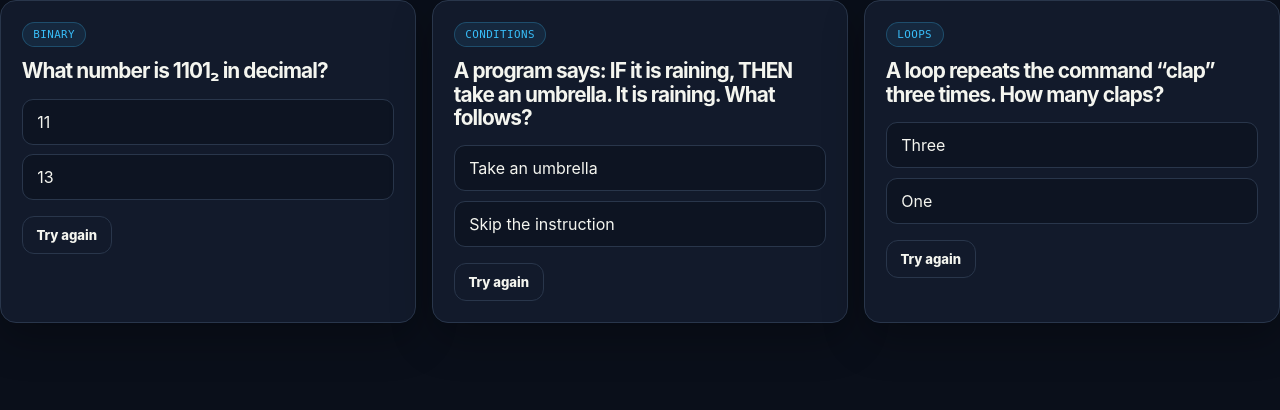
it: CodingChallenges › evaluates the loops prompt correctly
The width and height of the screenshot is (1280, 410).
Click the button "Three". click: point(923, 145)
box: [886,122,1258,168]
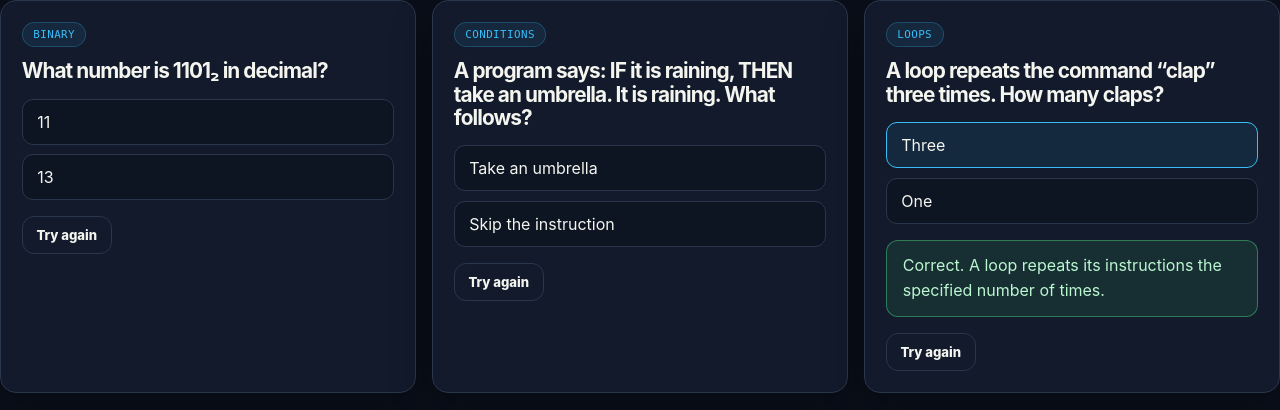
Result: the message shows "Correct" at [903,255,969,275]
